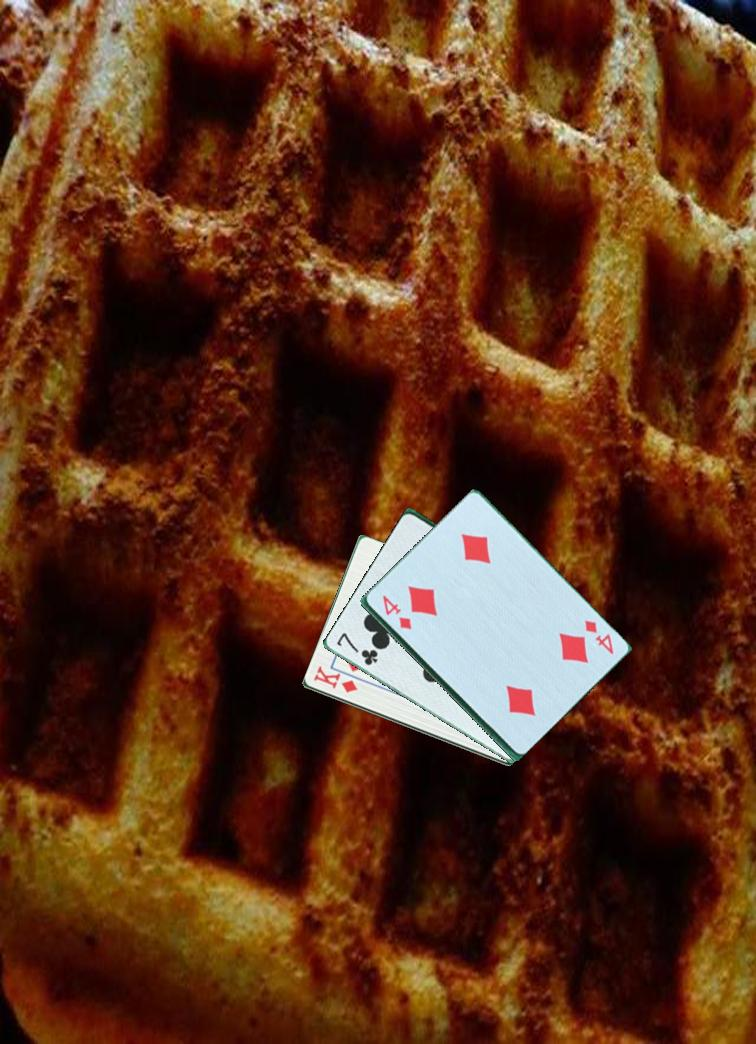4d: (579, 617, 616, 658), (378, 591, 414, 632)
7c: (332, 629, 386, 668)
kd: (310, 665, 360, 696)
